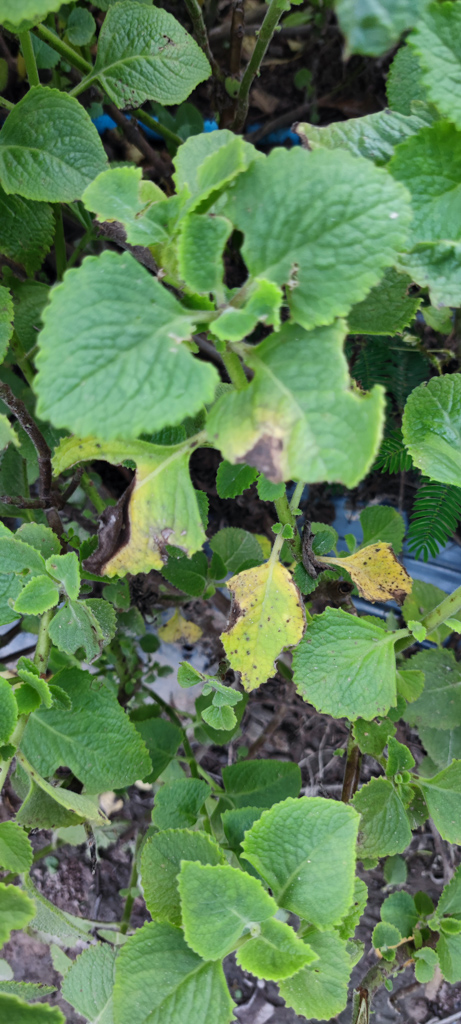Pepper yellow leaf: (51, 443, 203, 577), (209, 567, 303, 693), (229, 395, 310, 482), (325, 541, 420, 603)
